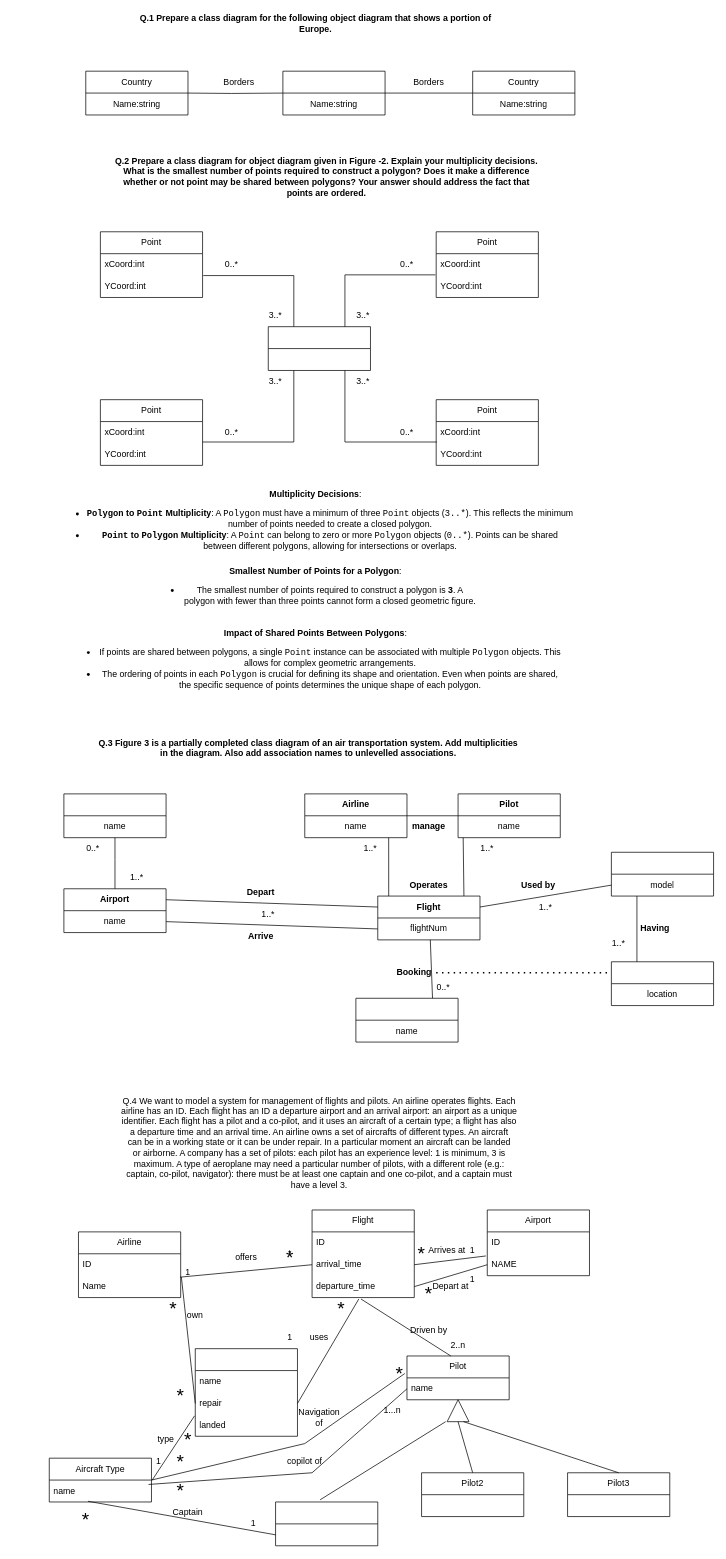
Image size: 726x1559. Some labels were removed from this diagram. The box of each missing label's shape, as (x1, y1, x2, y2) in pixels:
Aircraft: (195, 1348, 297, 1436)
City: (63, 793, 166, 838)
County: (282, 70, 385, 115)
Passenger: (355, 998, 458, 1042)
Pilot1: (275, 1501, 378, 1546)
Plane: (611, 852, 714, 896)
Polygon: (268, 326, 370, 370)
Seat: (611, 961, 714, 1006)
